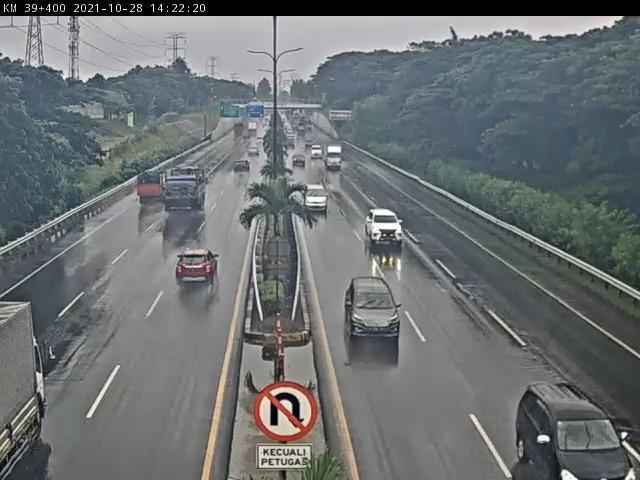car: (514, 379, 640, 480), (347, 275, 408, 344), (175, 246, 220, 284), (366, 208, 404, 246), (306, 185, 333, 213), (234, 160, 253, 176)
truck: (1, 292, 49, 477), (161, 167, 210, 211), (134, 173, 169, 206)
